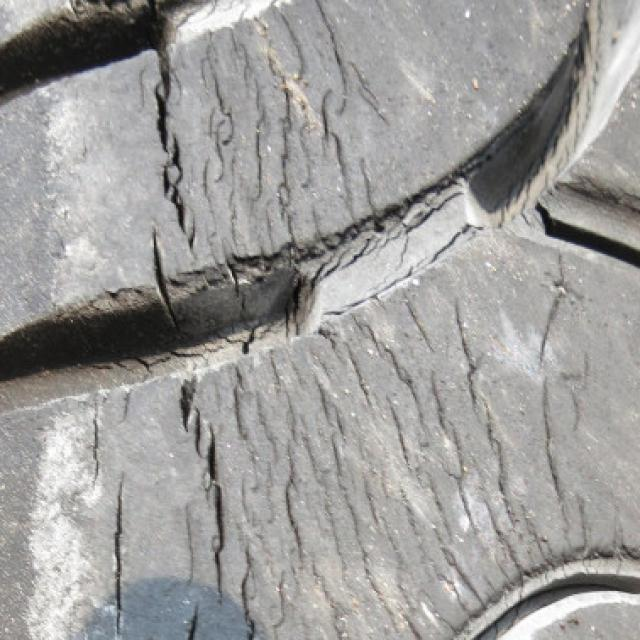Cracks: (78, 0, 632, 640)
